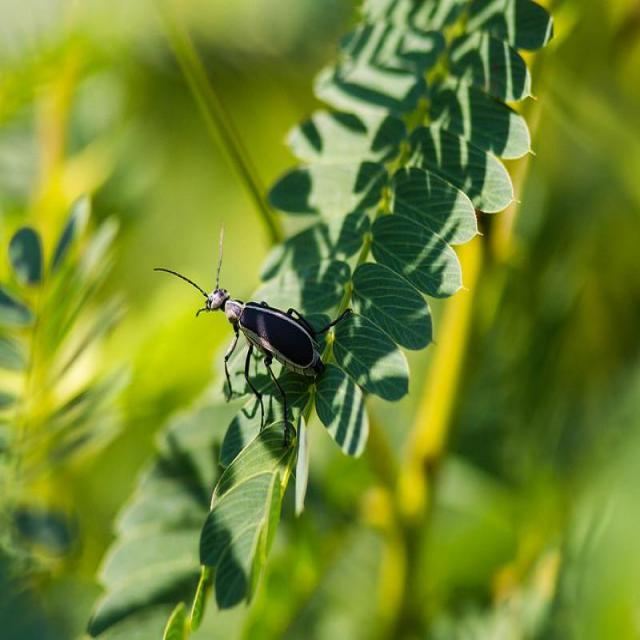BlisterBeetle-Adult-: (153, 221, 330, 439)
